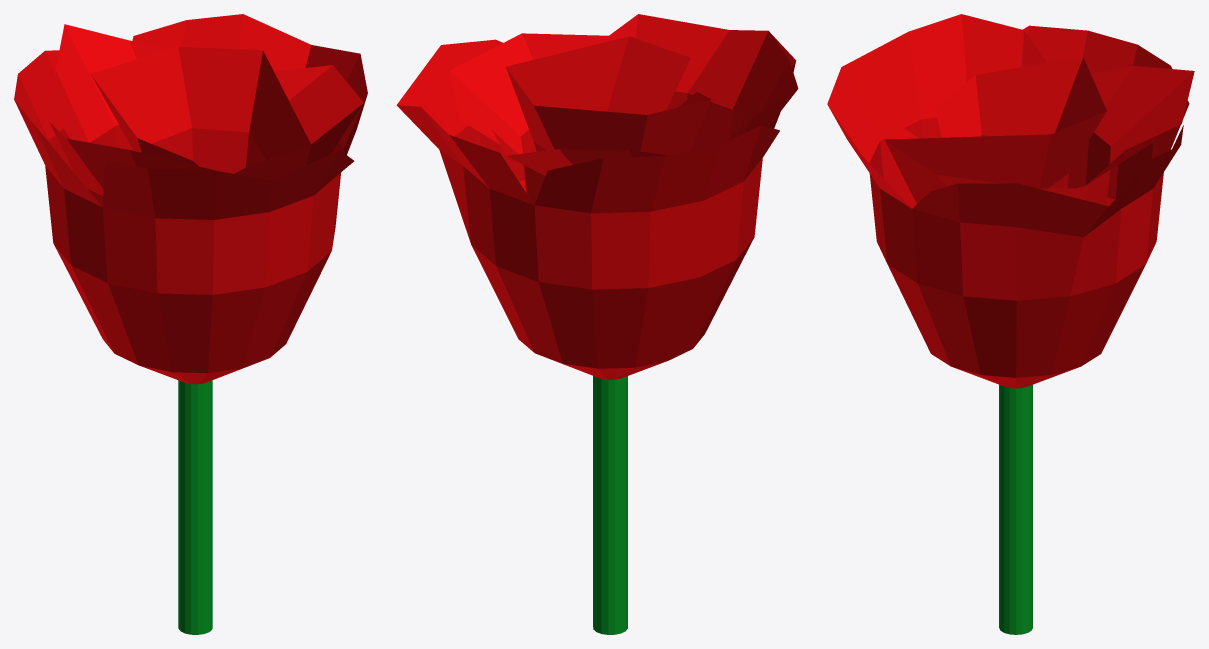
Rendered from low_poly_flower.fbx.
3 views of the same model, side by side, from view 1: azimuth 30°, elevation 25°; view 2: azimuth 150°, elevation 25°; view 3: azimuth 270°, elevation 25° (orthographic). The views are drawn at different scales.
Parts seen in each view (by area): view 1: Circle; view 2: Circle; view 3: Circle.
Boxes of the visible parts, x1=… form: Circle: x1=14, y1=14, x2=367, y2=634; Circle: x1=396, y1=14, x2=798, y2=634; Circle: x1=827, y1=14, x2=1194, y2=634.
Bounding box in the file's own units: 216 × 349 × 216.
